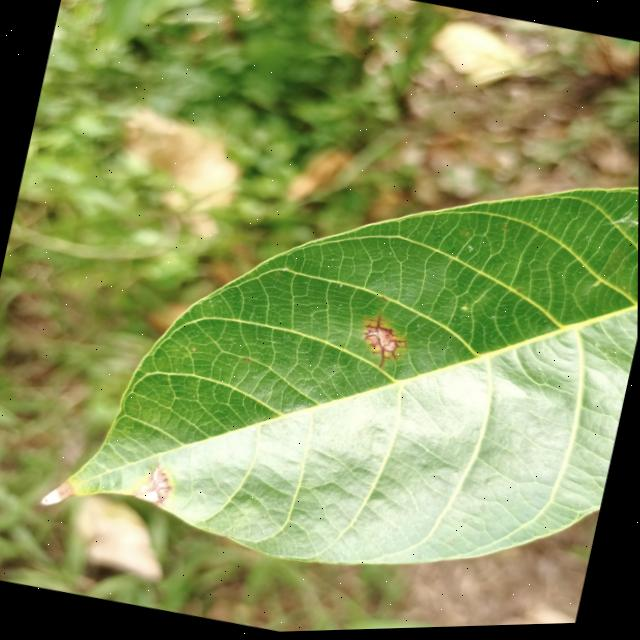Corynespora: (355, 311, 415, 375)
Leaf-Blight: (43, 478, 76, 509)
